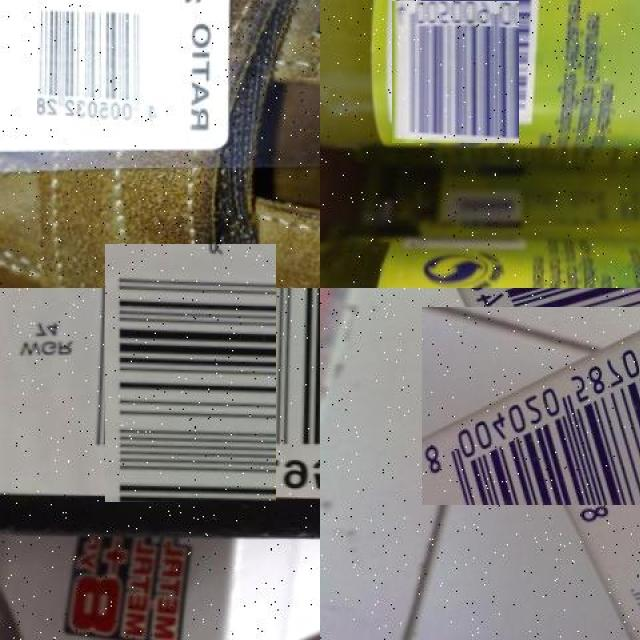Barcode: (83, 266, 298, 481), (431, 298, 640, 516), (35, 0, 180, 145), (384, 0, 527, 136)
